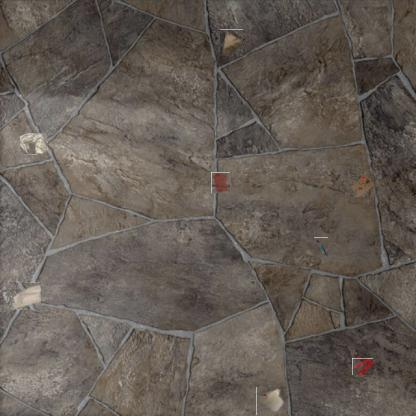dirty: (9, 282, 42, 310), (256, 388, 285, 416), (219, 30, 244, 56), (19, 132, 47, 154), (350, 173, 374, 197), (314, 237, 328, 258)
liquid: (210, 172, 231, 192), (353, 357, 372, 376)
